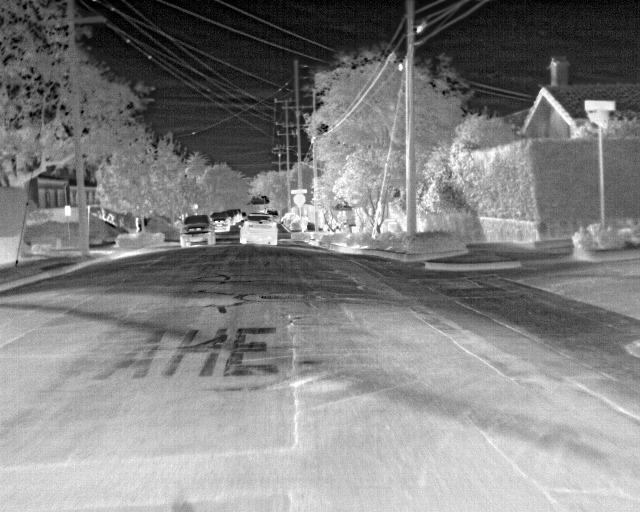car: (239, 212, 279, 247), (179, 213, 216, 249), (208, 211, 228, 231), (220, 208, 236, 224), (229, 206, 244, 221), (268, 208, 280, 222)
